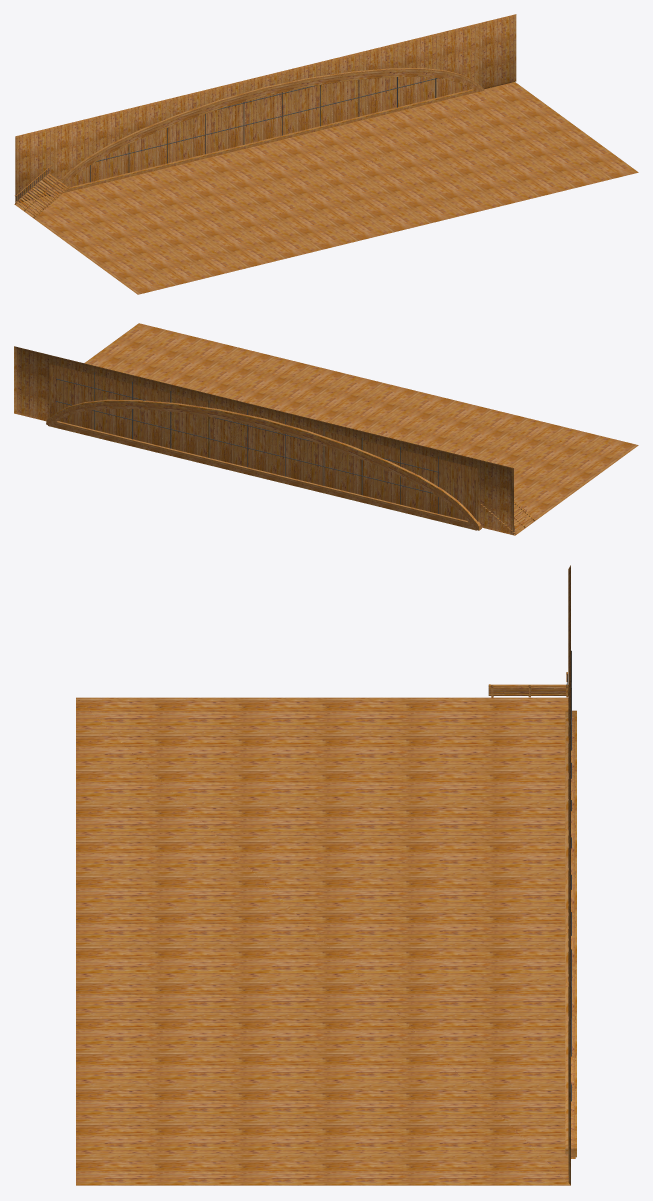
The model's file is lodgeMainHall.fbx.
3 views of the same model, one above another, from view 1: azimuth 30°, elevation 25°; view 2: azimuth 150°, elevation 25°; view 3: azimuth 270°, elevation 25° (orthographic). The views are drawn at different scales.
Parts seen in each view (by area): view 1: Floor, WindowWall_LOD0, Glass, WindowFrame_LOD0, MainStairs_LOD0, WindowBars_LOD0; view 2: Floor, Glass, WindowWall_LOD0, WindowFrame_LOD0, WindowBars_LOD0, MainStairs_LOD0; view 3: Floor, WindowFrame_LOD0, WindowWall_LOD0, MainStairs_LOD0.
Part boxes in pixels (<box>): Floor: <box>14,82,638,294</box>; WindowWall_LOD0: <box>15,14,516,202</box>; Glass: <box>62,77,471,188</box>; WindowFrame_LOD0: <box>49,68,483,196</box>; MainStairs_LOD0: <box>15,172,69,218</box>; WindowBars_LOD0: <box>90,77,437,182</box>; Floor: <box>84,323,638,535</box>; Glass: <box>49,364,478,521</box>; WindowWall_LOD0: <box>14,346,513,535</box>; WindowFrame_LOD0: <box>46,399,481,530</box>; WindowBars_LOD0: <box>56,372,438,513</box>; MainStairs_LOD0: <box>481,500,534,534</box>; Floor: <box>76,697,570,1185</box>; WindowFrame_LOD0: <box>565,710,576,1158</box>; WindowWall_LOD0: <box>568,565,570,1185</box>; MainStairs_LOD0: <box>488,684,568,697</box>.
Size of what is drawn, in the model's own units: 70.17 by 9.44 by 30.35.
